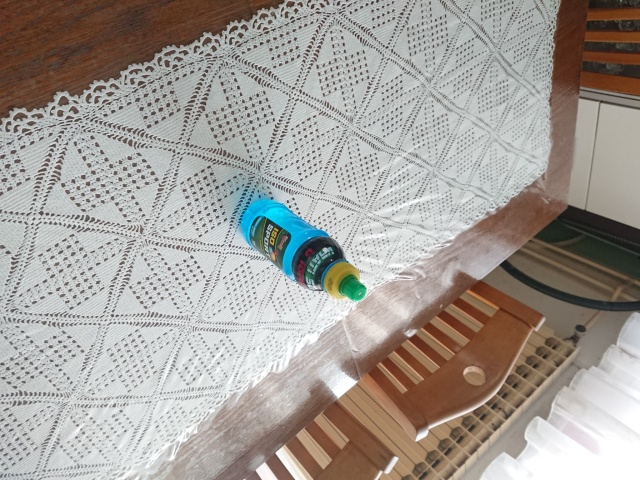Vindi Iso Sport Forest Strawberries 500mL: (238, 197, 368, 302)
